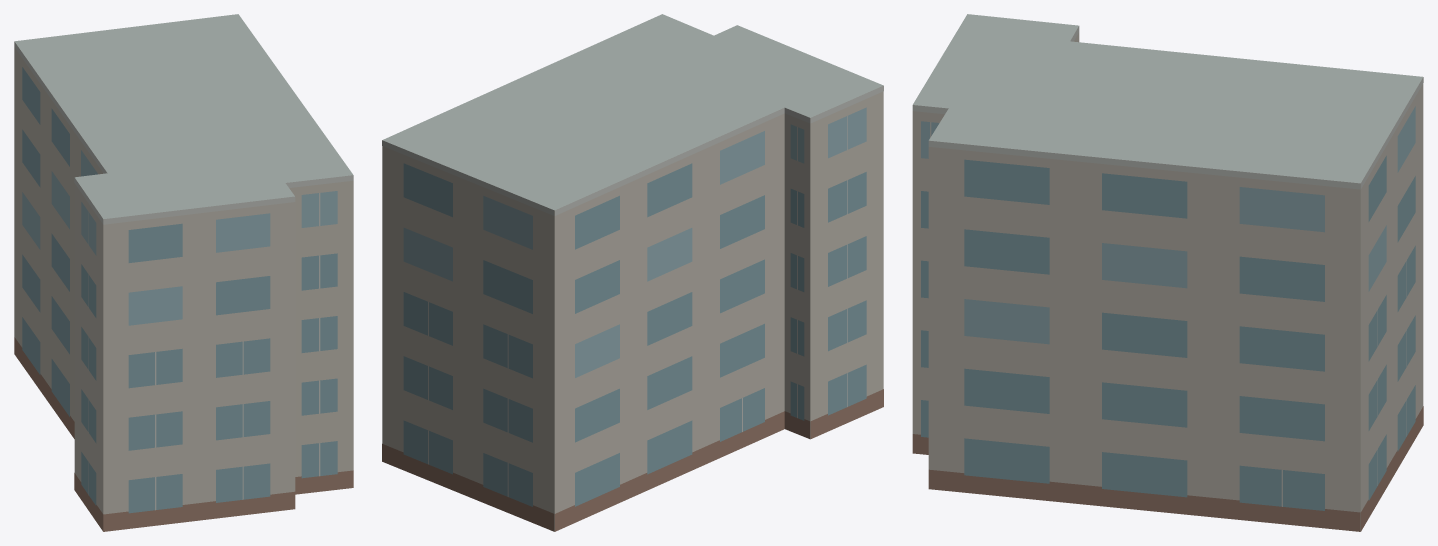
The model's file is survey-upis-32533910.glb.
3 views of the same model, side by side, from view 1: azimuth 30°, elevation 25°; view 2: azimuth 150°, elevation 25°; view 3: azimuth 270°, elevation 25° (orthographic). The views are drawn at different scales.
Visible parts, largest first — view 1: survey-upis-32533910.tmp; view 2: survey-upis-32533910.tmp; view 3: survey-upis-32533910.tmp.
Part boxes in pixels (x1,y1,x2,y2): survey-upis-32533910.tmp: (14,14,353,531); survey-upis-32533910.tmp: (382,14,883,531); survey-upis-32533910.tmp: (912,14,1423,531).
Bounding box in the file's own units: 14.4 × 13.8 × 18.35.
